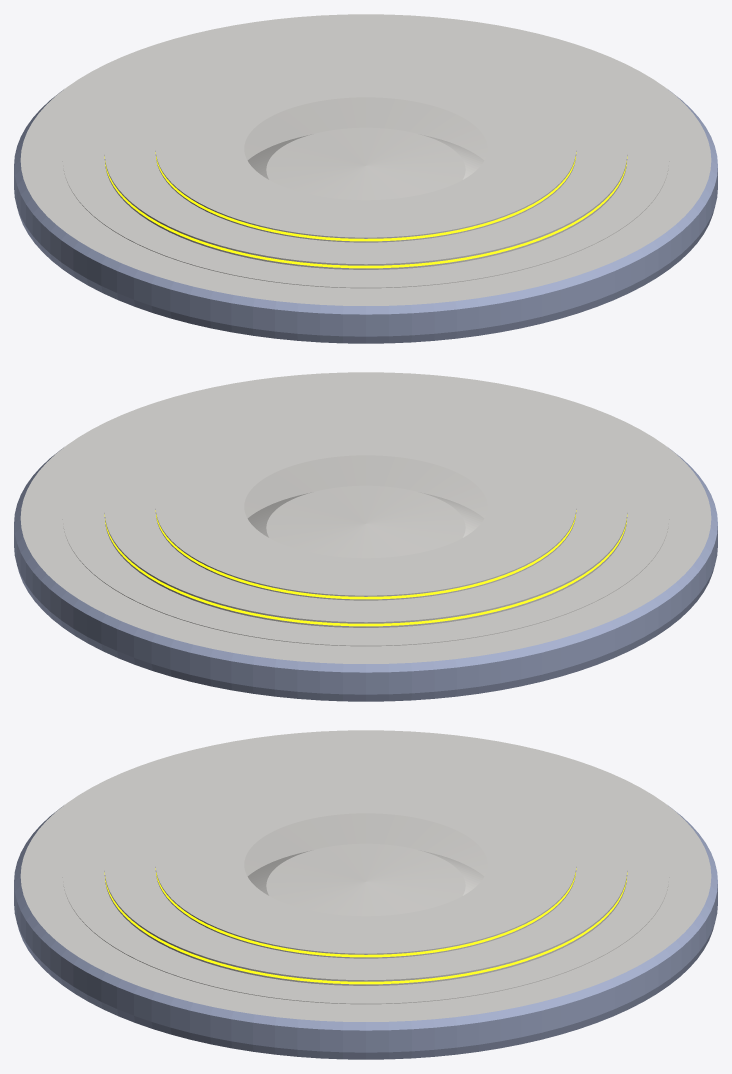
Rendered from Disco_Vortice.fbx.
3 views of the same model, one above another, from view 1: azimuth 30°, elevation 25°; view 2: azimuth 150°, elevation 25°; view 3: azimuth 270°, elevation 25° (orthographic).
Visible parts, largest first — view 1: Disco_Vortice; view 2: Disco_Vortice; view 3: Disco_Vortice.
Part boxes in pixels (x1,y1,x2,y2): Disco_Vortice: [14, 14, 717, 343]; Disco_Vortice: [14, 372, 717, 701]; Disco_Vortice: [14, 730, 717, 1059].
Size of the model in its own units: 38.99 by 2.88 by 38.99.
